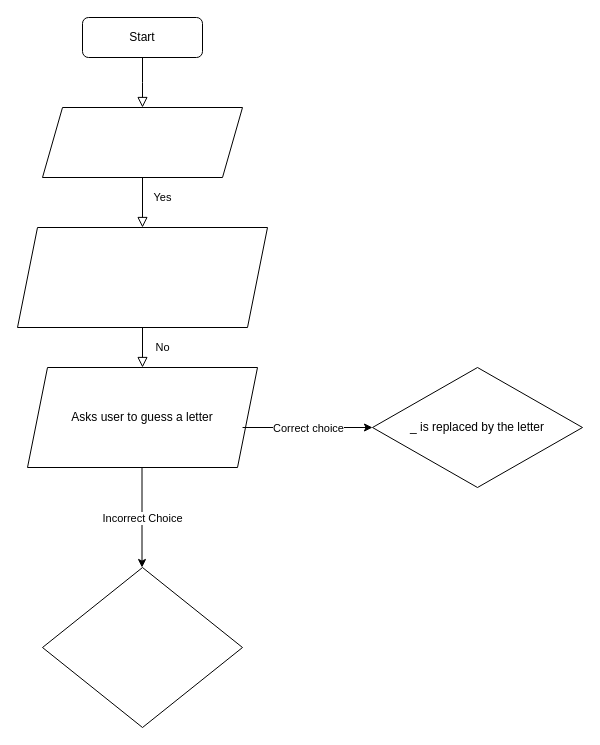
Image size: 600x745. Some labels were removed from this diagram. The box of each missing label's shape, as (x1, y1, x2, y2) in pixels:
Computer chooses a random word from dictionary: (16, 226, 268, 328)
Computer welcomes user to play: (42, 106, 242, 178)
